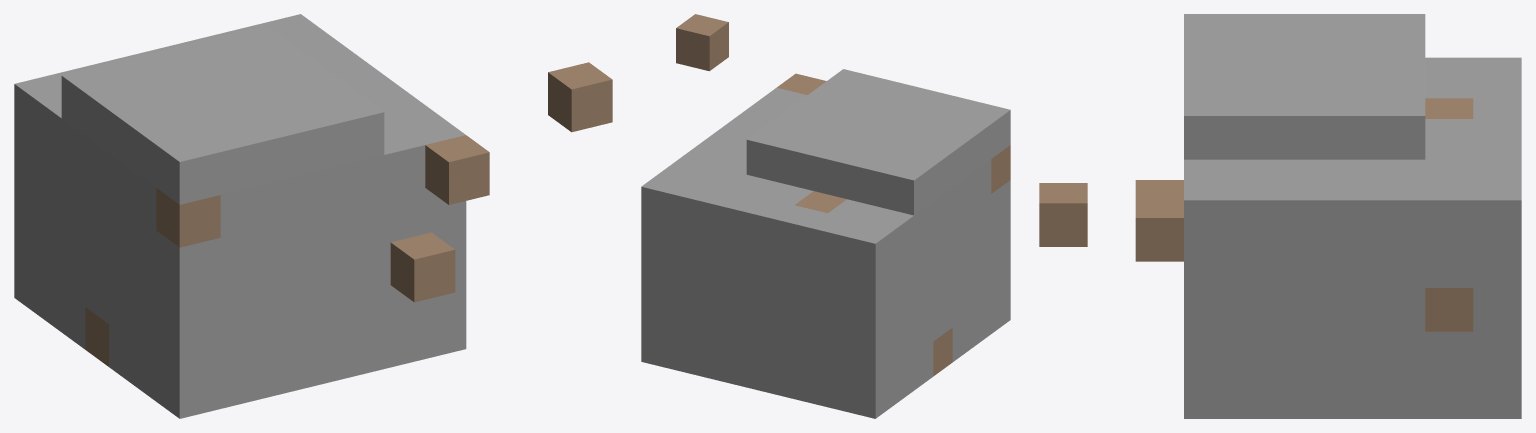
The model's file is veta_hierro_03.glb.
3 renders of one model, left to right at view 1: azimuth 30°, elevation 25°; view 2: azimuth 150°, elevation 25°; view 3: azimuth 270°, elevation 25°, orthographic. The views are drawn at different scales.
Visible parts, largest first — view 1: veta_hierro_03; view 2: veta_hierro_03; view 3: veta_hierro_03.
Boxes of the visible parts, <box> form: veta_hierro_03: <box>14,14,612,418</box>; veta_hierro_03: <box>641,14,1010,418</box>; veta_hierro_03: <box>1039,14,1521,418</box>.
Bounding box in the file's own units: 1 × 0.6 × 1.
